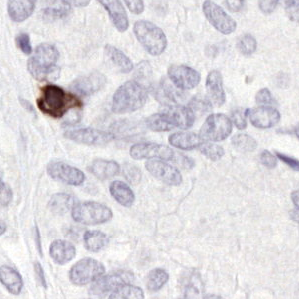Lymphocyte: (38, 85, 66, 116)
